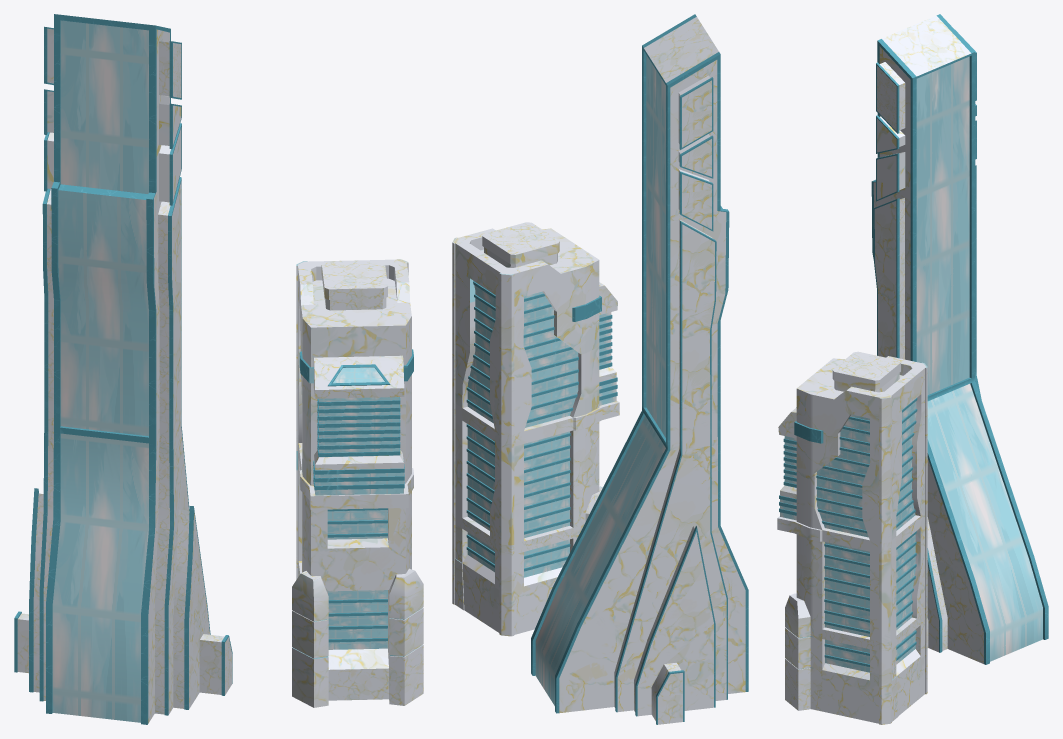
Rendered from Buildingsssss.fbx.
The picture shows the model from 3 angles, left to right: view 1: azimuth 30°, elevation 25°; view 2: azimuth 150°, elevation 25°; view 3: azimuth 270°, elevation 25°; orthographic projection. The views are drawn at different scales.
Parts seen in each view (by area): view 1: Building6, Building5; view 2: Building6, Building5; view 3: Building6, Building5.
Boxes of the visible parts, x1,y1,x2,y2 form: Building6: (14, 14, 232, 724); Building5: (292, 259, 423, 707); Building6: (531, 14, 748, 724); Building5: (452, 222, 619, 636); Building6: (871, 14, 1048, 664); Building5: (777, 351, 927, 724).
Bounding box in the file's own units: 524 × 1016 × 431.
1 material, 1 textured.
